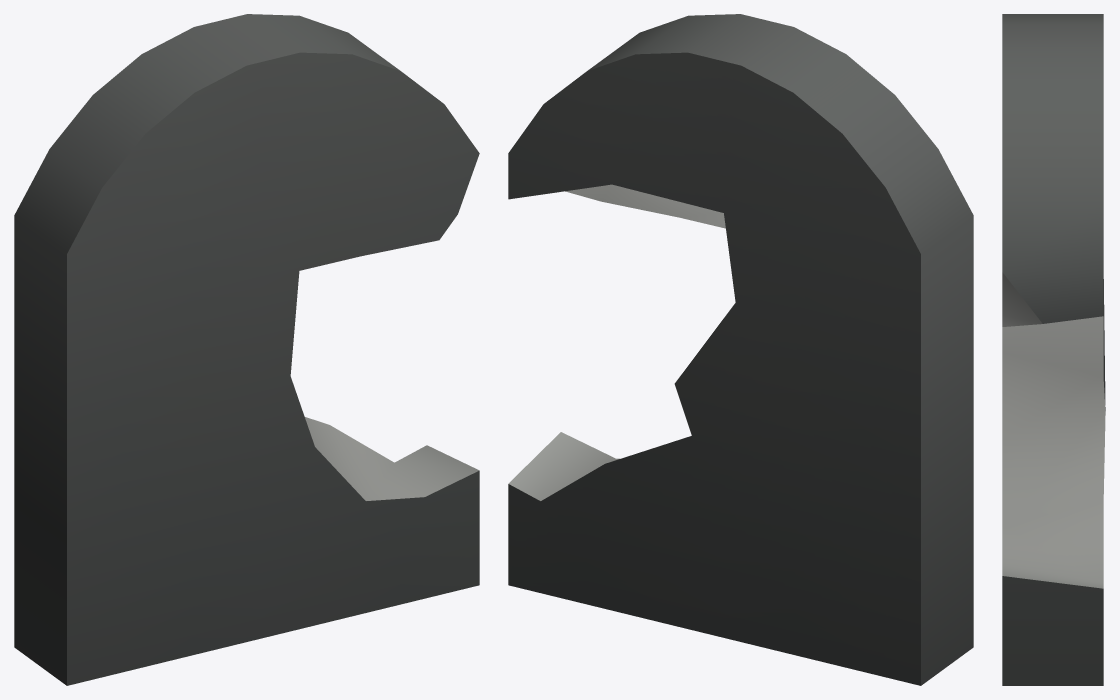
Rendered from Mezarlık.002.fbx.
The picture shows the model from 3 angles, left to right: view 1: azimuth 30°, elevation 25°; view 2: azimuth 150°, elevation 25°; view 3: azimuth 270°, elevation 25°; orthographic projection. The views are drawn at different scales.
Visible parts, largest first — view 1: Mezarlık.002; view 2: Mezarlık.002; view 3: Mezarlık.002.
Boxes of the visible parts, <box> form: Mezarlık.002: <box>14,14,479,685</box>; Mezarlık.002: <box>508,14,973,685</box>; Mezarlık.002: <box>1002,14,1105,685</box>.
Bounding box in the file's own units: 200 × 267 × 45.17.
